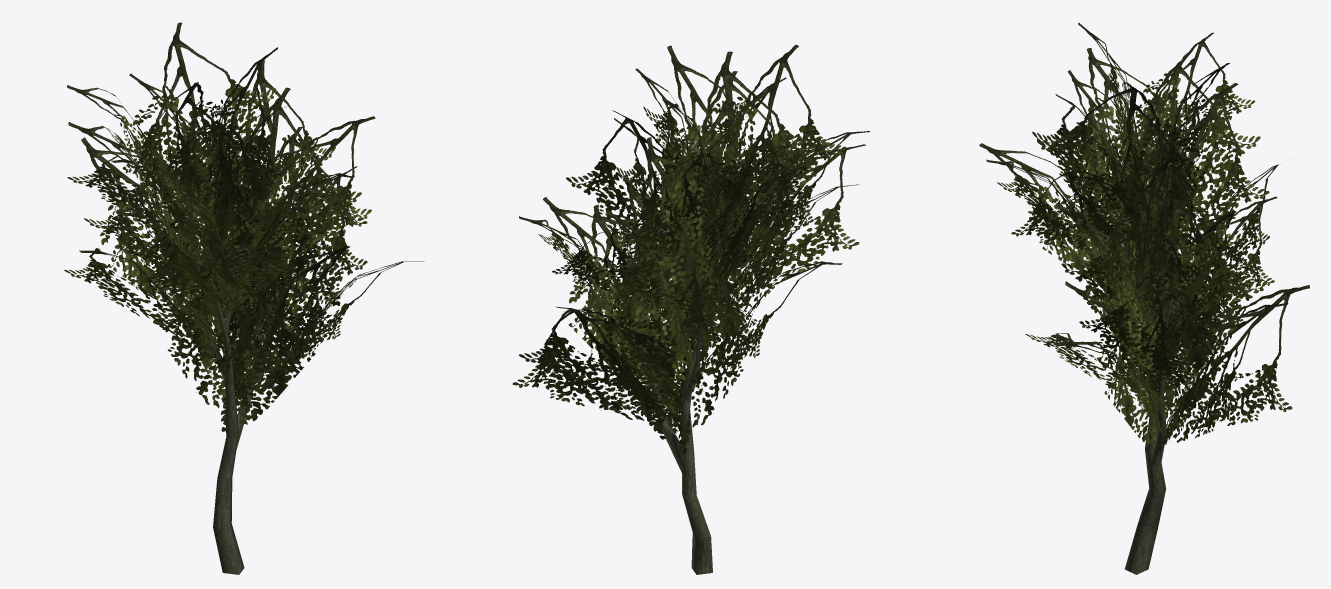
The model's file is bush9.glb.
3 views of the same model, side by side, from view 1: azimuth 30°, elevation 25°; view 2: azimuth 150°, elevation 25°; view 3: azimuth 270°, elevation 25° (orthographic). The views are drawn at different scales.
Visible parts, largest first — view 1: Bush9; view 2: Bush9; view 3: Bush9.
Part boxes in pixels (box(x1,y1,x2,y2)): Bush9: box(64, 22, 424, 574); Bush9: box(512, 44, 870, 574); Bush9: box(979, 23, 1309, 574).
Bounding box in the file's own units: 9.36 × 12.22 × 8.27.
2 materials, 2 textured.
